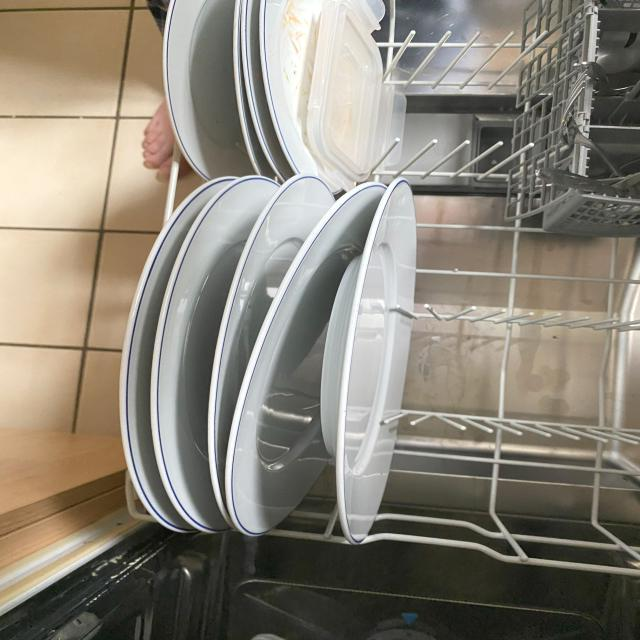empty_slot: (411, 181, 632, 567), (386, 2, 531, 179)
